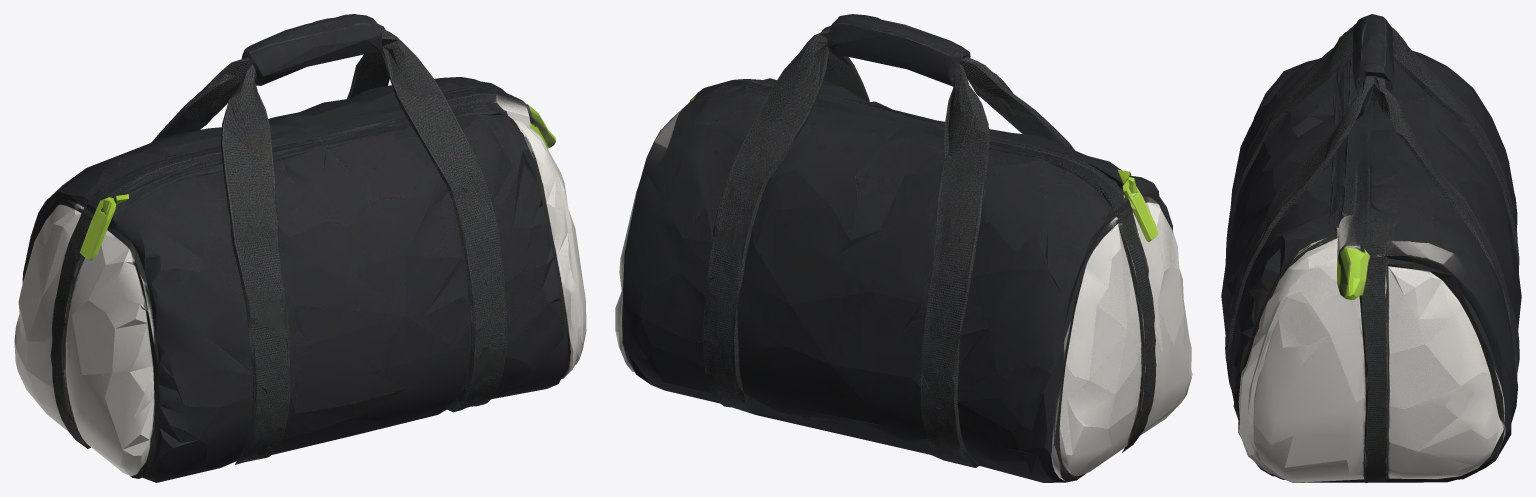
Rendered from canta.glb.
3 renders of one model, left to right at view 1: azimuth 30°, elevation 25°; view 2: azimuth 150°, elevation 25°; view 3: azimuth 270°, elevation 25°, orthographic. The views are drawn at different scales.
Parts seen in each view (by area): view 1: Mesh_0; view 2: Mesh_0; view 3: Mesh_0.
Part boxes in pixels (x1=…): Mesh_0: x1=14, y1=14, x2=586, y2=482; Mesh_0: x1=615, y1=14, x2=1192, y2=482; Mesh_0: x1=1221, y1=14, x2=1521, y2=482.
Bounding box in the file's own units: 1.9 × 1.37 × 1.05.
Materials: 1 (1 with a texture image).
